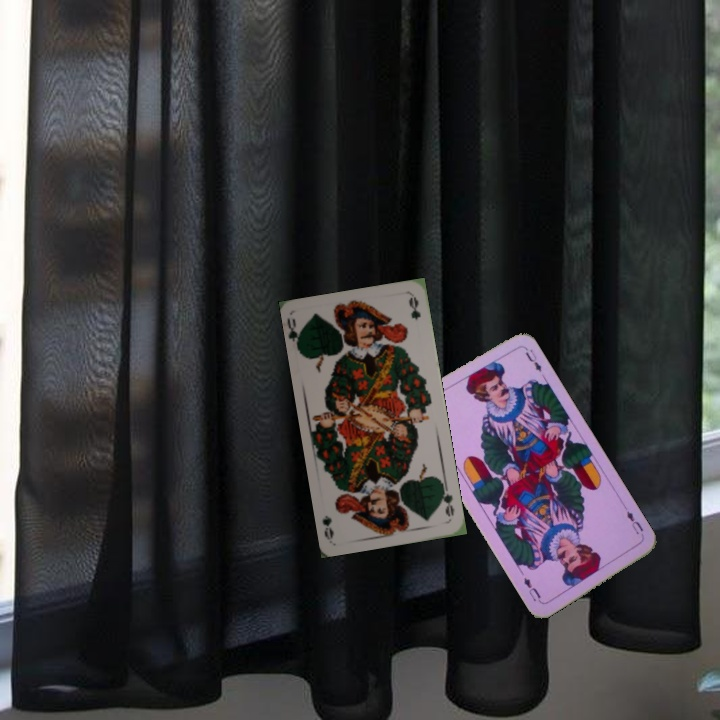EU: (622, 507, 646, 537)
GO: (285, 314, 306, 354), (437, 480, 457, 519)
